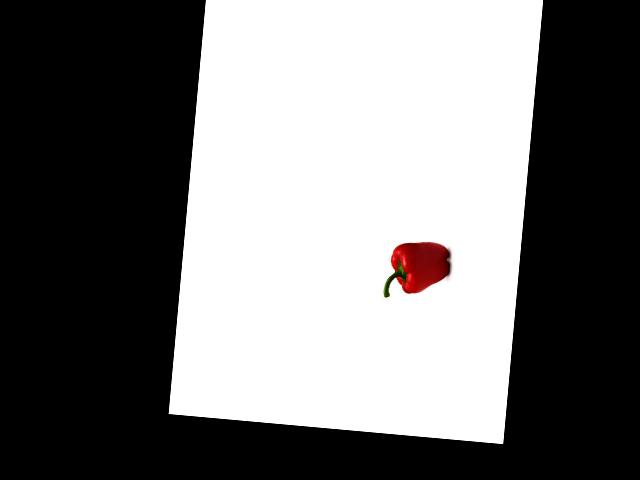bell_pepper: (379, 235, 456, 305)
